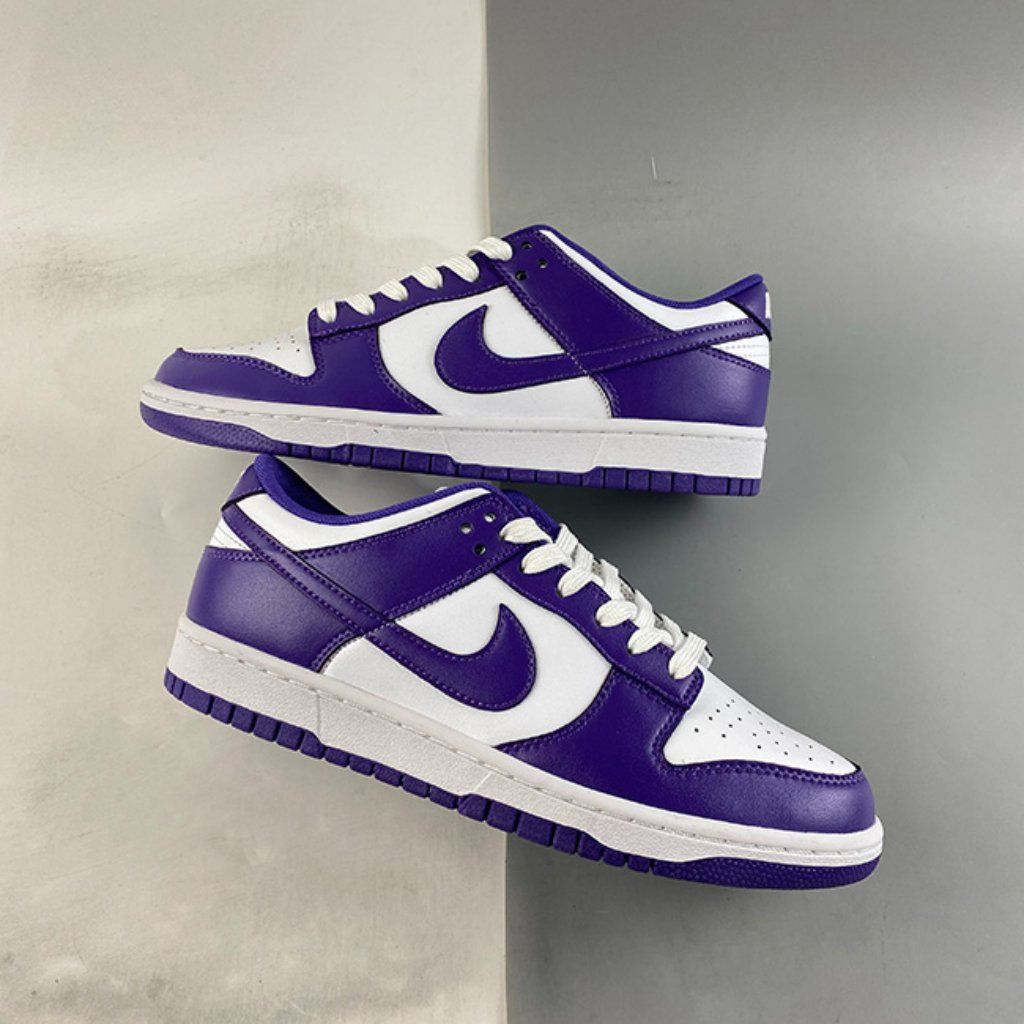nike_dunk_low_purple_court: (162, 455, 886, 894), (131, 223, 776, 502)
